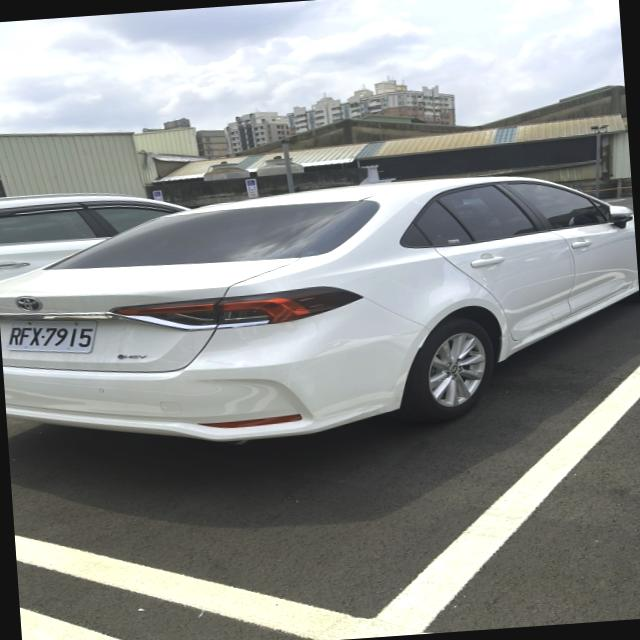license plate: (7, 321, 95, 352)
wheel: (399, 317, 491, 423)
